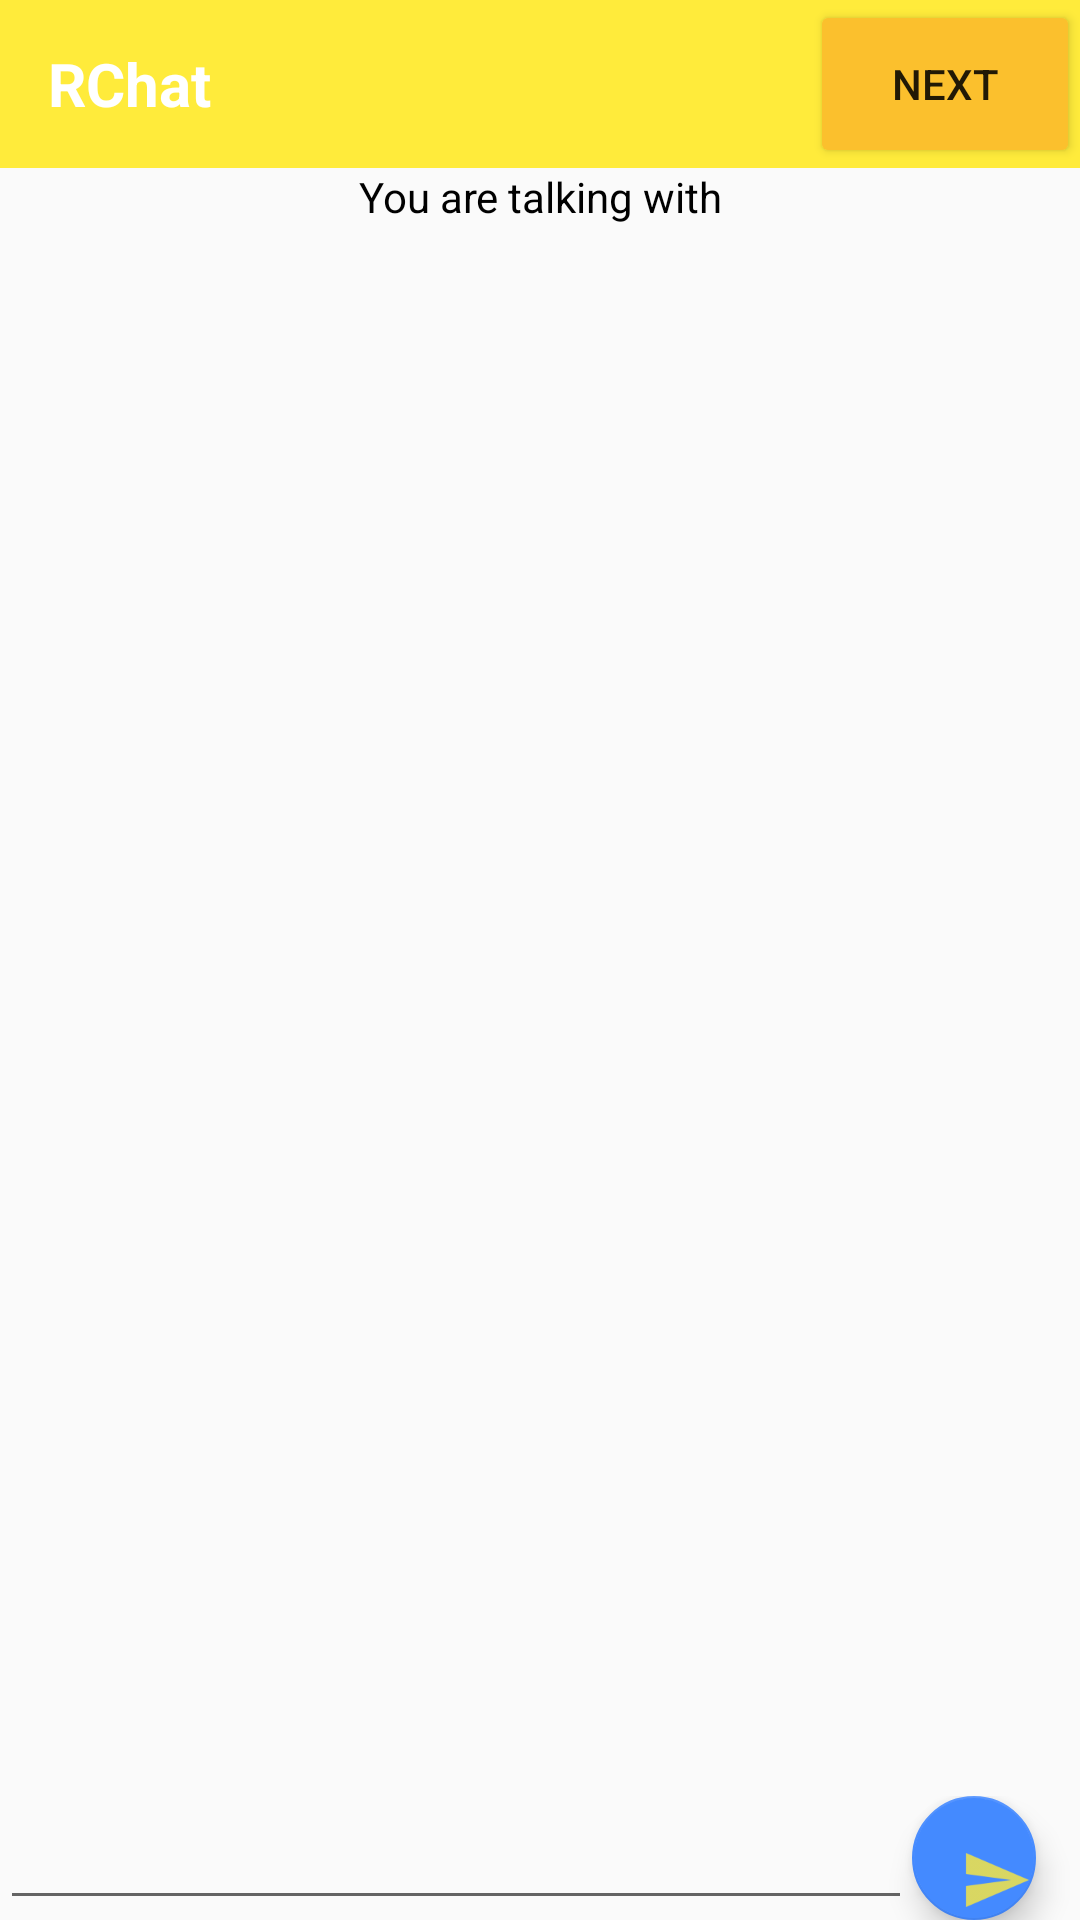

Named icons in this screenshot (1080px x 1920px) and their bounding boxes, Rect(x1, y1, x2, y2):
send: Rect(912, 1796, 1036, 1920)
